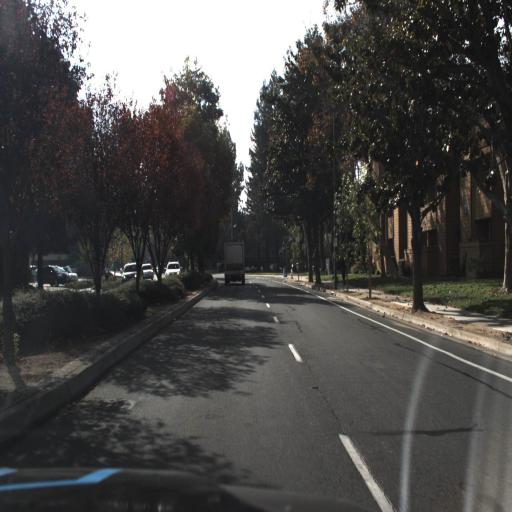car: (38, 260, 69, 290), (116, 260, 142, 290), (163, 256, 185, 286), (164, 258, 182, 280), (63, 264, 79, 288), (139, 260, 155, 284)
truck: (218, 234, 248, 288)
